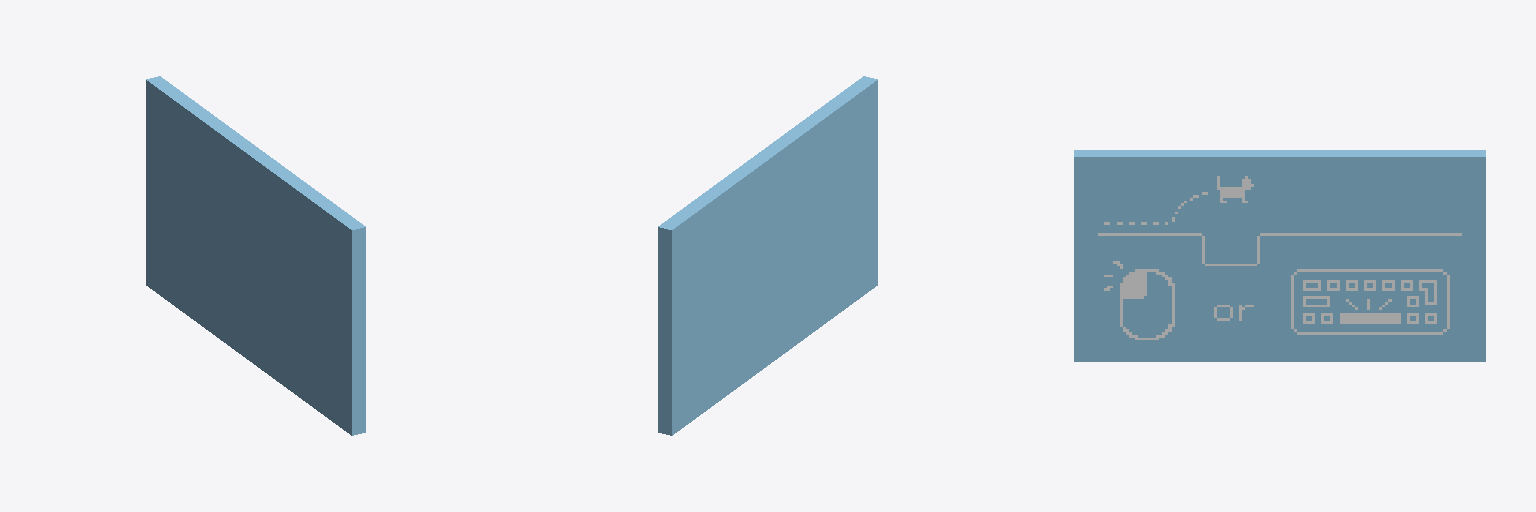
The picture shows the model from 3 angles: view 1: azimuth 30°, elevation 25°; view 2: azimuth 150°, elevation 25°; view 3: azimuth 270°, elevation 25°; orthographic projection.
Visible parts, largest first — view 1: Cube; view 2: Cube; view 3: Cube.
Part boxes in pixels (bbox=[...]): Cube: bbox=[146, 76, 365, 435]; Cube: bbox=[658, 76, 877, 435]; Cube: bbox=[1074, 150, 1485, 361].
Size of the model in its own units: 0.16 by 2.2 by 4.
1 materials, 1 textured.